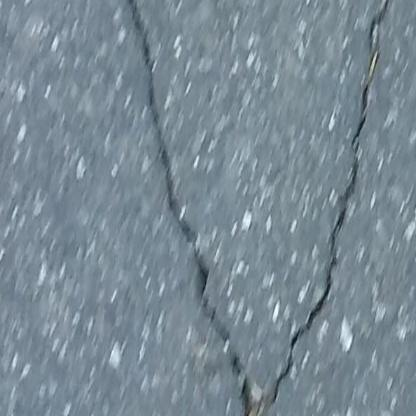Cracks: (125, 0, 395, 416)
